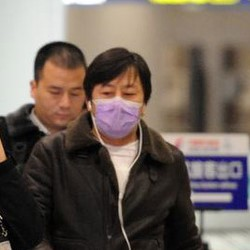mask: (90, 98, 143, 139)
